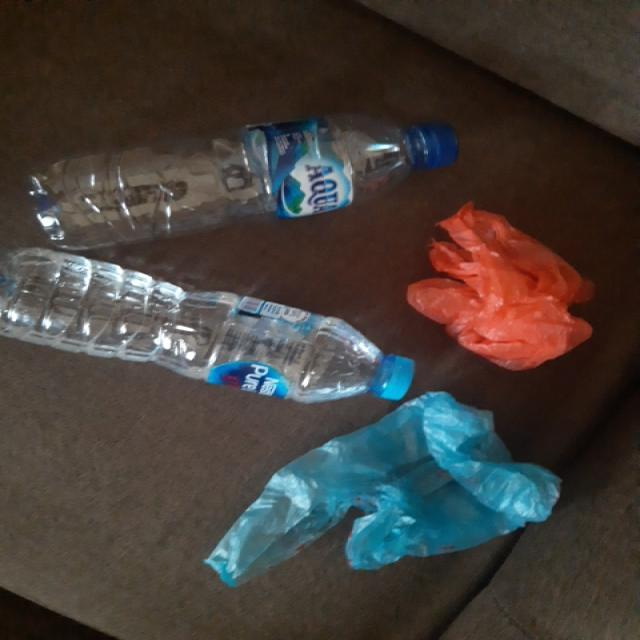Single-layer Plastic: (205, 392, 560, 586), (408, 202, 594, 369)
